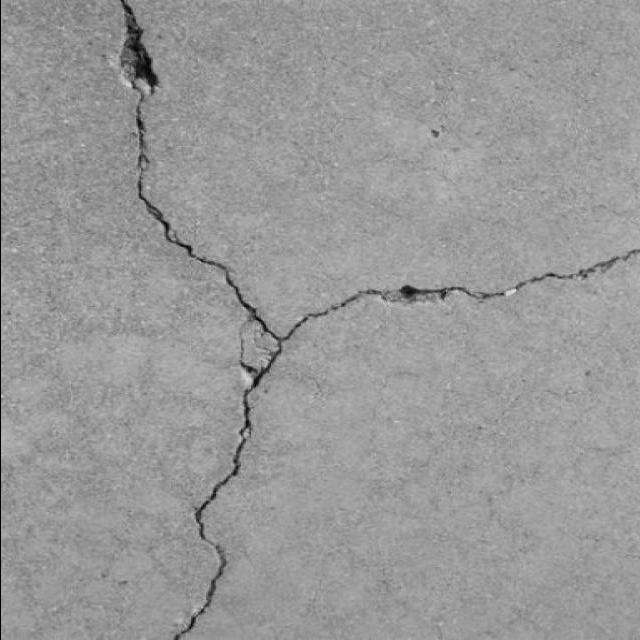SurfaceCrack: (93, 0, 322, 640), (242, 199, 640, 358)
